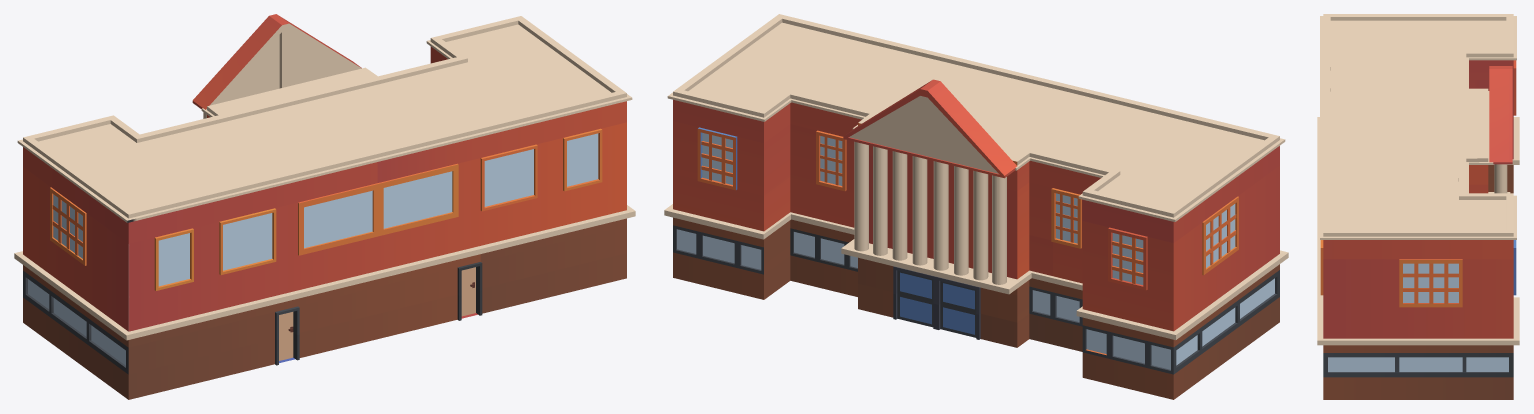
Rendered from 3duni.glb.
3 renders of one model, left to right at view 1: azimuth 30°, elevation 25°; view 2: azimuth 150°, elevation 25°; view 3: azimuth 270°, elevation 25°, orthographic. The views are drawn at different scales.
Parts seen in each view (by area): view 1: Cube.010; view 2: Cube.010; view 3: Cube.010.
Part boxes in pixels (x1,y1,x2,y2): Cube.010: [14, 14, 635, 399]; Cube.010: [664, 14, 1288, 399]; Cube.010: [1317, 14, 1519, 399].
Bounding box in the file's own units: 22.33 × 10.36 × 8.53.
Materials: 3 (3 with a texture image).
